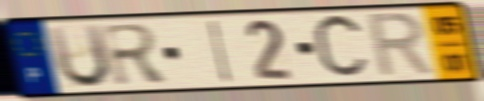2: (245, 17, 295, 82)
C: (310, 10, 373, 84)
I: (206, 17, 234, 85)
R: (365, 9, 439, 81), (99, 21, 173, 89)
U: (45, 22, 114, 91)
